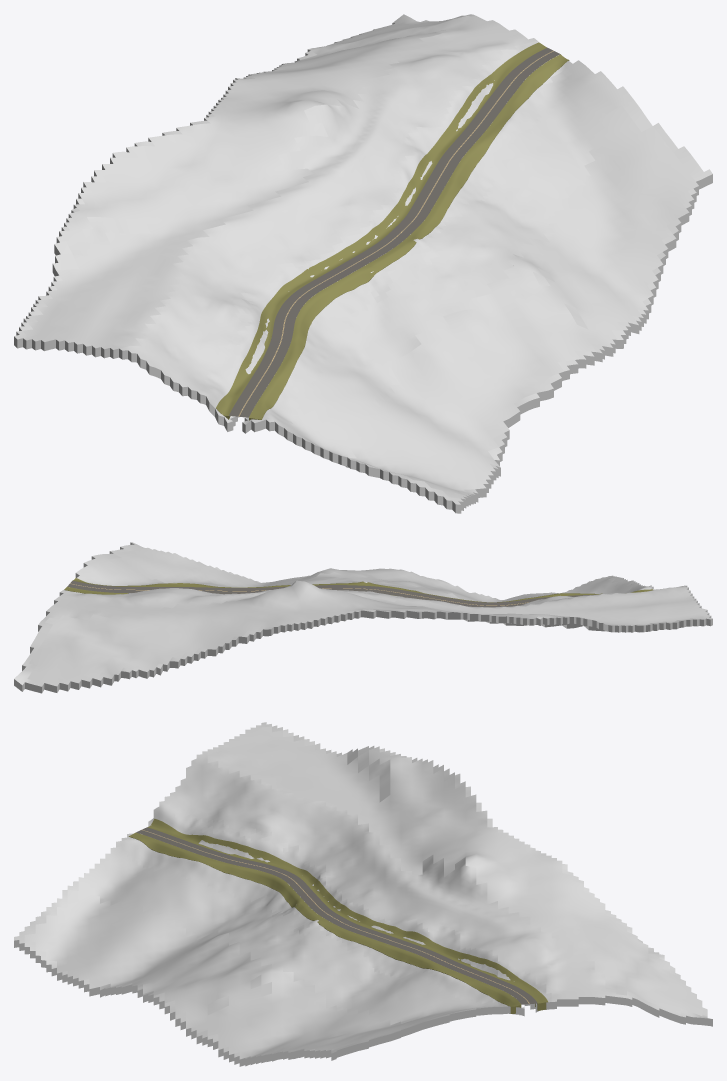
File: conz_199.glb
The picture shows the model from 3 angles, top to bottom: view 1: azimuth 30°, elevation 25°; view 2: azimuth 150°, elevation 25°; view 3: azimuth 270°, elevation 25°; orthographic projection. The views are drawn at different scales.
Visible parts, largest first — view 1: terrain199, road199, verge199R, verge199L; view 2: terrain199, road199, verge199R, paint_yellow199; view 3: terrain199, verge199R, verge199L, road199.
Part boxes in pixels (x1,y1,x2,y2): terrain199: (14, 14, 712, 513); road199: (229, 47, 560, 417); verge199R: (249, 54, 569, 420); verge199L: (216, 42, 546, 419); terrain199: (14, 542, 712, 693); road199: (67, 580, 595, 607); verge199R: (73, 578, 652, 602); paint_yellow199: (70, 583, 528, 605); terrain199: (14, 722, 712, 1066); verge199R: (128, 832, 521, 1013); verge199L: (147, 818, 547, 1010); road199: (136, 827, 537, 1004).
Size of the model in its own units: 258 by 65.43 by 260.
